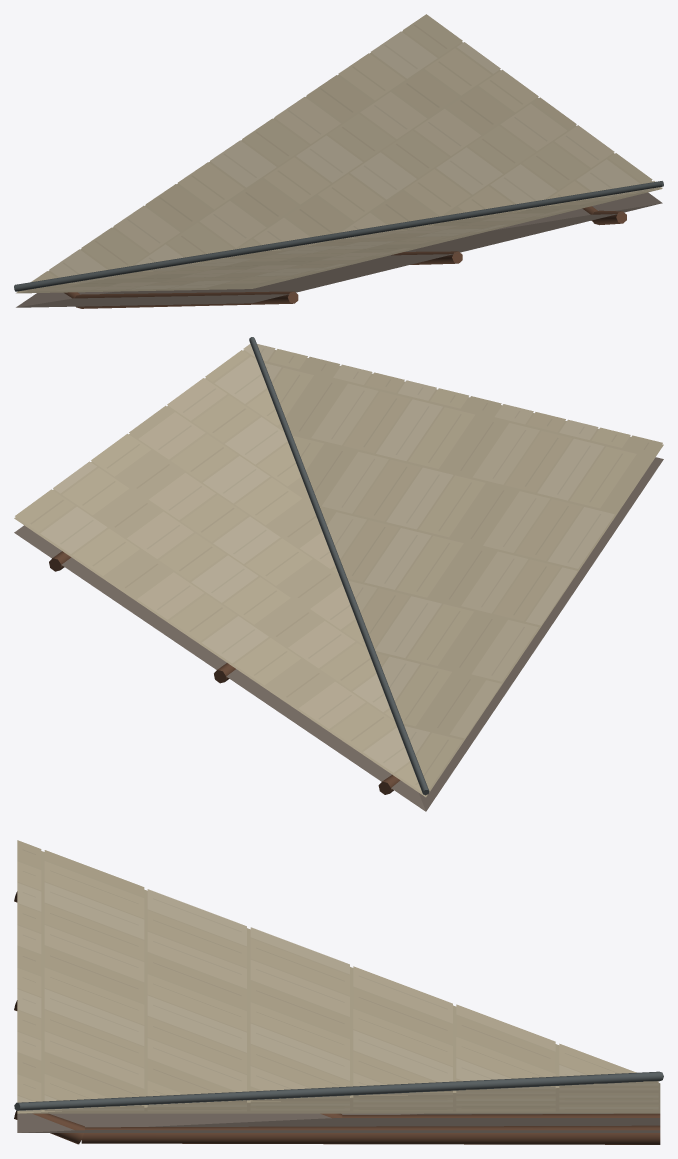
The model's file is Roof_Valley_22p5.glb.
The picture shows the model from 3 angles, top to bottom: view 1: azimuth 30°, elevation 25°; view 2: azimuth 150°, elevation 25°; view 3: azimuth 270°, elevation 25°; orthographic projection. The views are drawn at different scales.
Parts seen in each view (by area): view 1: _MeshInstance3D_3563, _MeshInstance3D_3570, _MeshInstance3D_3565, _MeshInstance3D_3567; view 2: _MeshInstance3D_3563, _MeshInstance3D_3570; view 3: _MeshInstance3D_3563, _MeshInstance3D_3568, _MeshInstance3D_3570, _MeshInstance3D_3566, _MeshInstance3D_3569.
Boxes of the visible parts, x1,y1,x2,y2 form: _MeshInstance3D_3563: (16,14,662,307); _MeshInstance3D_3570: (14,181,663,291); _MeshInstance3D_3565: (75,291,298,308); _MeshInstance3D_3567: (391,251,462,264); _MeshInstance3D_3563: (14,344,663,811); _MeshInstance3D_3570: (249,337,429,795); _MeshInstance3D_3563: (17,840,660,1132); _MeshInstance3D_3568: (81,1125,660,1144); _MeshInstance3D_3570: (14,1071,663,1110); _MeshInstance3D_3566: (342,1113,660,1117); _MeshInstance3D_3569: (14,1111,84,1144).
Size of the model in its own units: 3.03 by 1.4 by 3.03.
